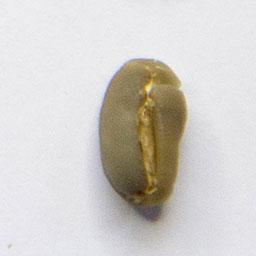peaberry: (95, 54, 191, 212)
